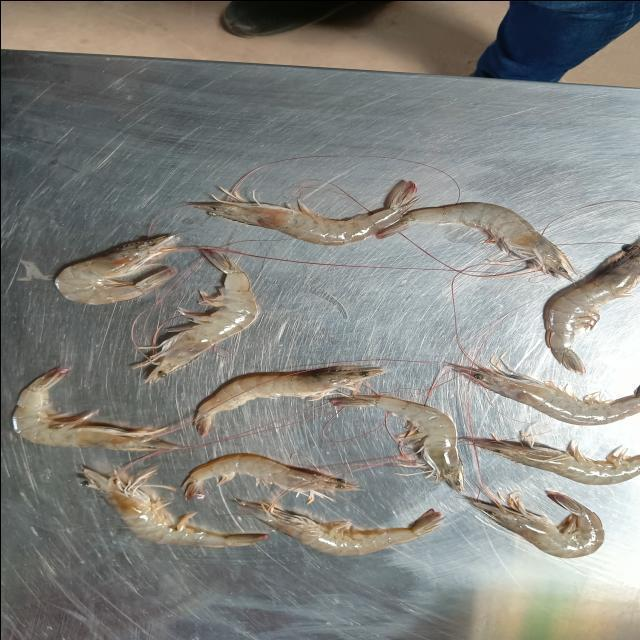shrimp: (133, 249, 259, 380), (82, 468, 266, 546), (14, 368, 177, 450), (199, 364, 390, 432), (330, 394, 463, 491), (543, 242, 640, 371), (335, 394, 463, 490), (237, 500, 441, 555), (211, 190, 414, 242), (461, 366, 640, 424), (421, 202, 569, 272), (470, 491, 602, 558), (53, 235, 180, 302), (180, 452, 357, 500), (476, 439, 640, 484)
